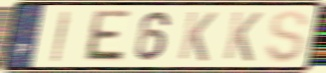6: (133, 10, 171, 63)
E: (81, 8, 133, 65)
I: (49, 9, 74, 64)
K: (176, 10, 219, 64), (221, 10, 264, 64)
S: (263, 8, 311, 65)
